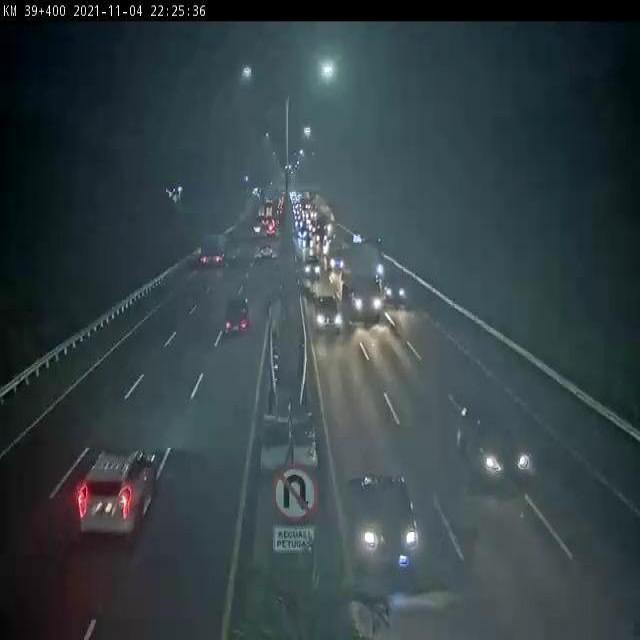car: (454, 399, 541, 496), (345, 478, 418, 586), (77, 449, 158, 536), (379, 266, 412, 306), (311, 298, 344, 338), (224, 303, 251, 340), (326, 240, 345, 272), (300, 251, 321, 276), (257, 245, 274, 264)
truck-s-: (197, 238, 223, 270)
truck-xl-: (342, 244, 383, 329)
